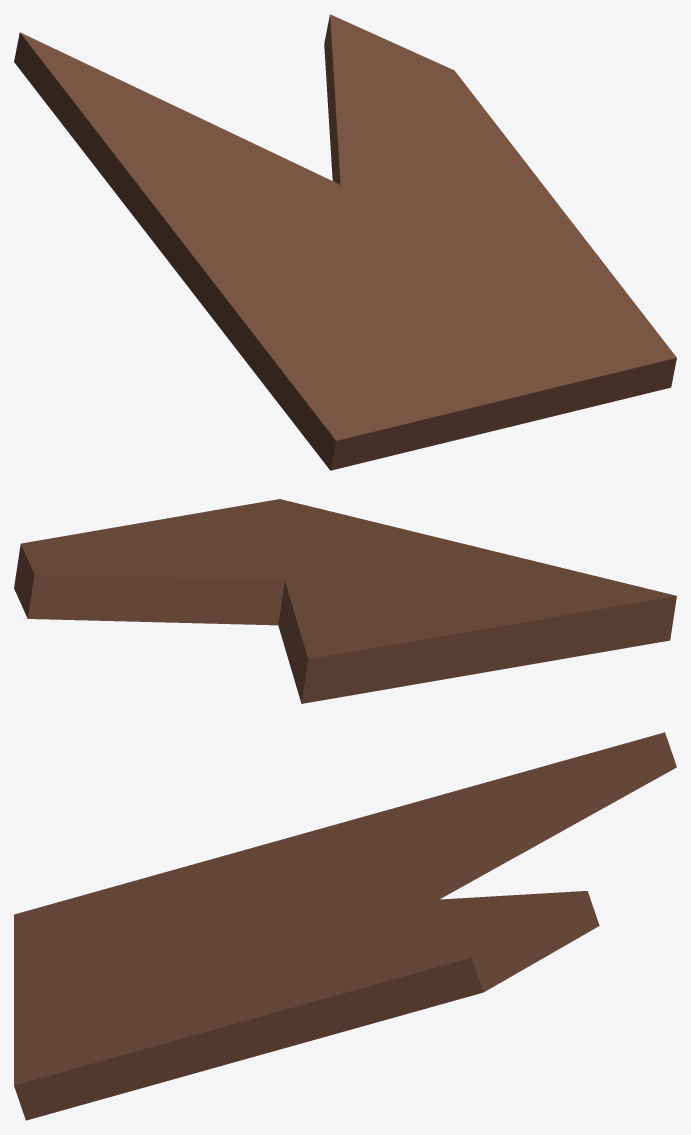
File: Wooden_002.fbx
3 views of the same model, one above another, from view 1: azimuth 30°, elevation 25°; view 2: azimuth 150°, elevation 25°; view 3: azimuth 270°, elevation 25° (orthographic). The views are drawn at different scales.
Visible parts, largest first — view 1: Wooden_002; view 2: Wooden_002; view 3: Wooden_002.
Boxes of the visible parts, x1,y1,x2,y2 form: Wooden_002: [14, 14, 676, 470]; Wooden_002: [14, 499, 676, 703]; Wooden_002: [14, 732, 676, 1120].
Bounding box in the file's own units: 10 × 5.92 × 16.38.
